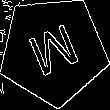M_SE: (23, 19, 84, 83)
